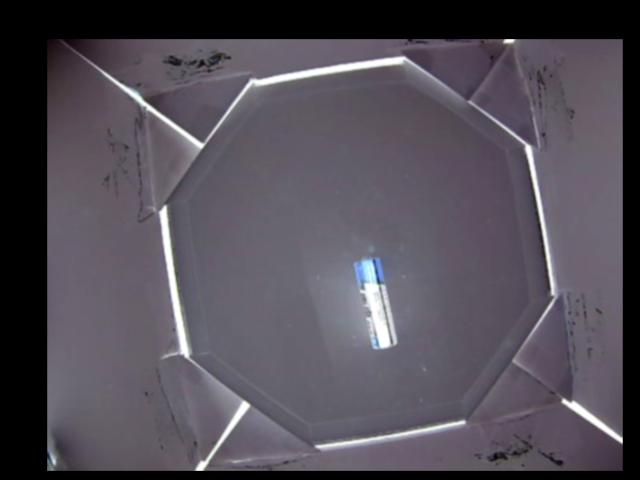Battery: (357, 256, 390, 351)
